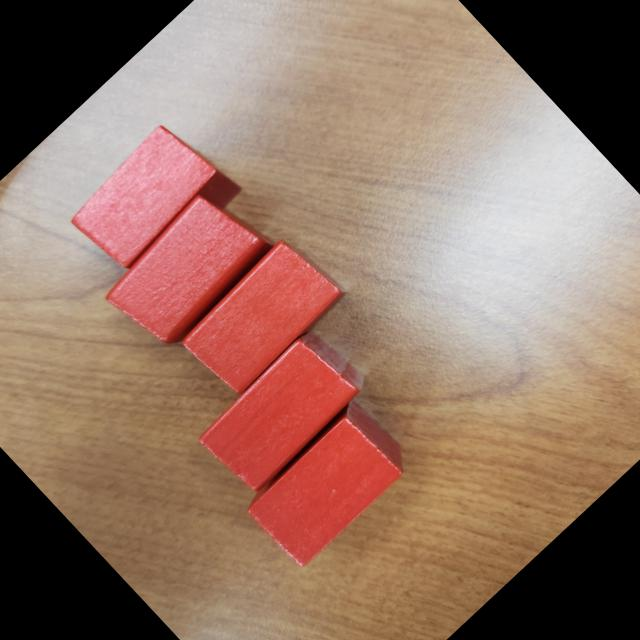red: (97, 178, 281, 358), (239, 394, 420, 572), (64, 113, 242, 288), (193, 326, 369, 498), (176, 231, 348, 400)
